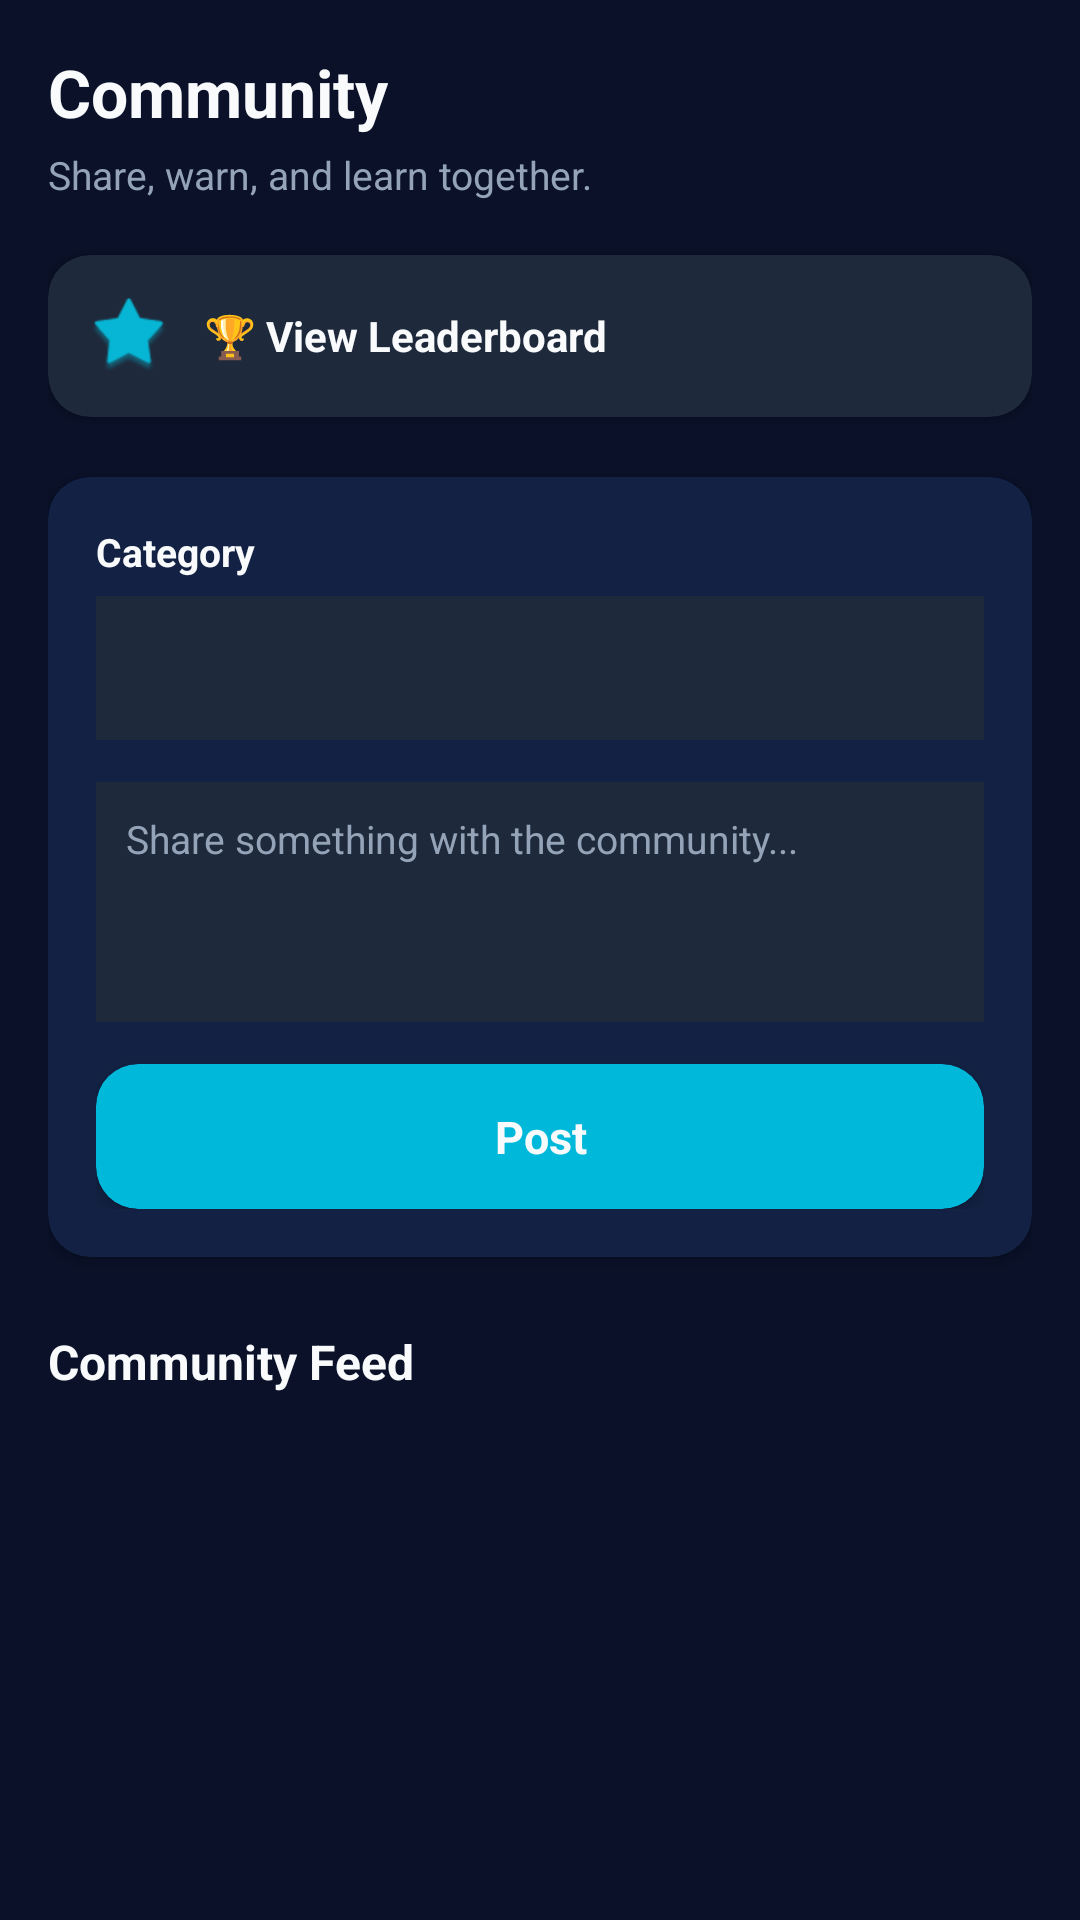

Screen size 1080w x 1920h. Icon name, then its box in pixels as (x1, y1, x2, y2):
star on: (94, 298, 163, 368)
